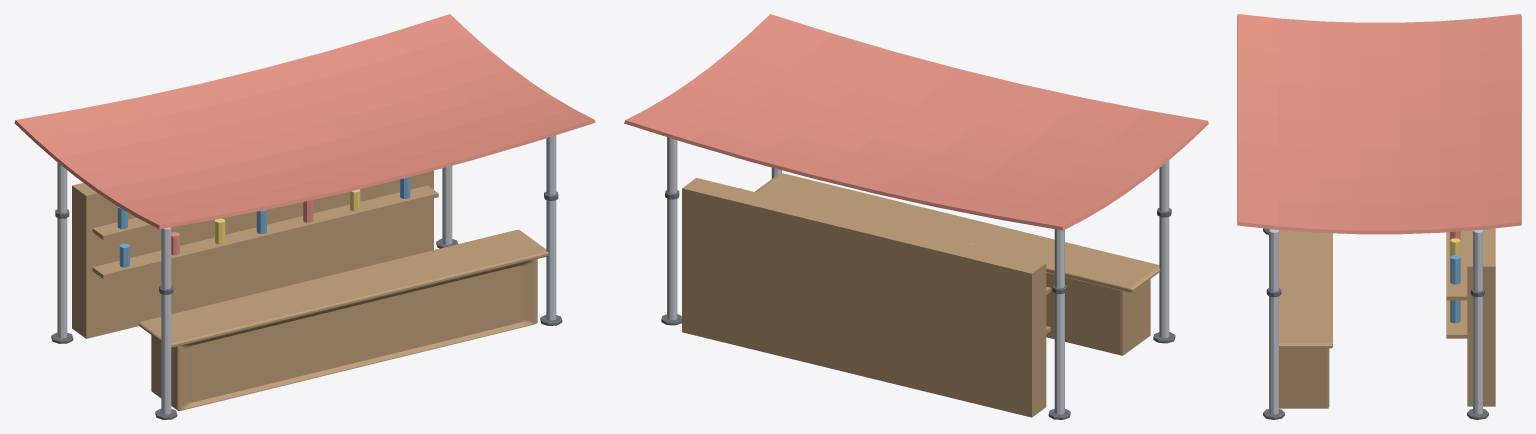
File: Bar.fbx
3 renders of one model, left to right at view 1: azimuth 30°, elevation 25°; view 2: azimuth 150°, elevation 25°; view 3: azimuth 270°, elevation 25°, orthographic. The views are drawn at different scales.
Visible parts, largest first — view 1: Bar_Canopy, Bar_Counter, Bar_Shelf, Bar_Ledge1.05, Bar_Pole-3.1-1.5, Bar_Pole3.1-1.5, Bar_Pole-3.11.4, Bar_Pole3.11.4, Bar_Ledge1.65; view 2: Bar_Canopy, Bar_Shelf, Bar_Counter, Bar_Pole-3.11.4, Bar_Pole3.11.4, Bar_Pole-3.1-1.5; view 3: Bar_Canopy, Bar_Counter, Bar_Shelf, Bar_Pole3.1-1.5, Bar_Pole3.11.4, Bar_Ledge1.65, Bar_Ledge1.05, Bar_Bottle_1.65_6.
Part boxes in pixels (bbox=[...]): Bar_Canopy: bbox=[14, 14, 595, 229]; Bar_Counter: bbox=[138, 229, 548, 410]; Bar_Shelf: bbox=[72, 170, 433, 338]; Bar_Ledge1.05: bbox=[92, 185, 438, 278]; Bar_Pole-3.1-1.5: bbox=[155, 227, 177, 419]; Bar_Pole3.1-1.5: bbox=[540, 135, 562, 325]; Bar_Pole-3.11.4: bbox=[51, 162, 73, 343]; Bar_Pole3.11.4: bbox=[436, 166, 457, 248]; Bar_Ledge1.65: bbox=[92, 217, 154, 239]; Bar_Canopy: bbox=[624, 14, 1208, 230]; Bar_Shelf: bbox=[682, 178, 1046, 417]; Bar_Counter: bbox=[755, 173, 1160, 355]; Bar_Pole-3.11.4: bbox=[1048, 229, 1070, 419]; Bar_Pole3.11.4: bbox=[661, 137, 681, 325]; Bar_Pole-3.1-1.5: bbox=[1153, 160, 1175, 343]; Bar_Canopy: bbox=[1237, 14, 1521, 234]; Bar_Counter: bbox=[1279, 230, 1332, 408]; Bar_Shelf: bbox=[1467, 228, 1495, 406]; Bar_Pole3.1-1.5: bbox=[1263, 229, 1284, 419]; Bar_Pole3.11.4: bbox=[1467, 230, 1488, 419]; Bar_Ledge1.65: bbox=[1446, 231, 1467, 300]; Bar_Ledge1.05: bbox=[1446, 300, 1467, 338]; Bar_Bottle_1.65_6: bbox=[1450, 255, 1460, 284].
Bounding box in the file's own units: 703 × 322 × 404.
